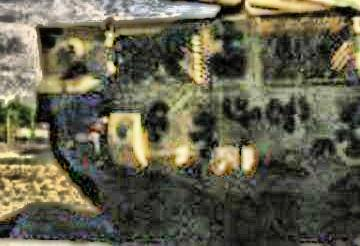tanks: (38, 1, 360, 237)
